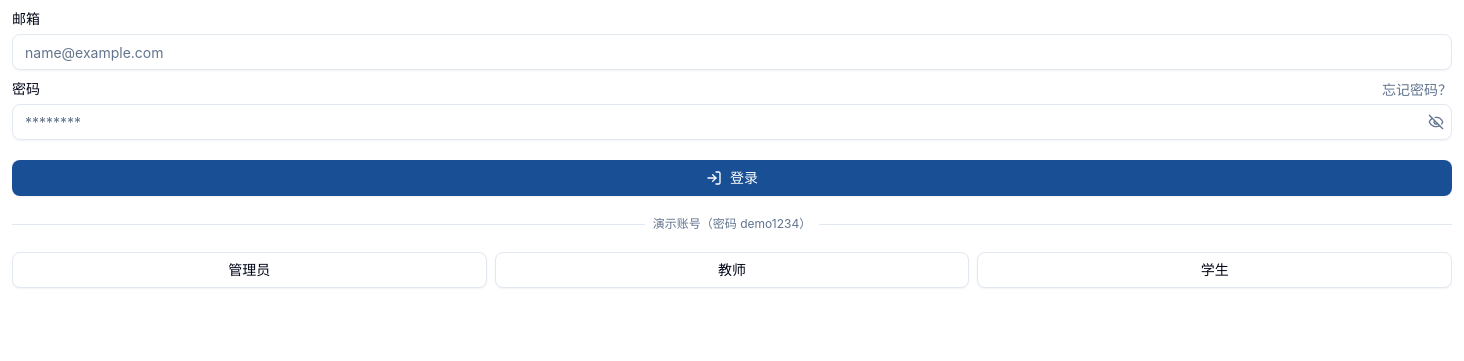
it: UserAuthForm › shows validation messages when submitting empty form
Click the button "登录". click: (732, 178)
box: [12, 160, 1452, 196]
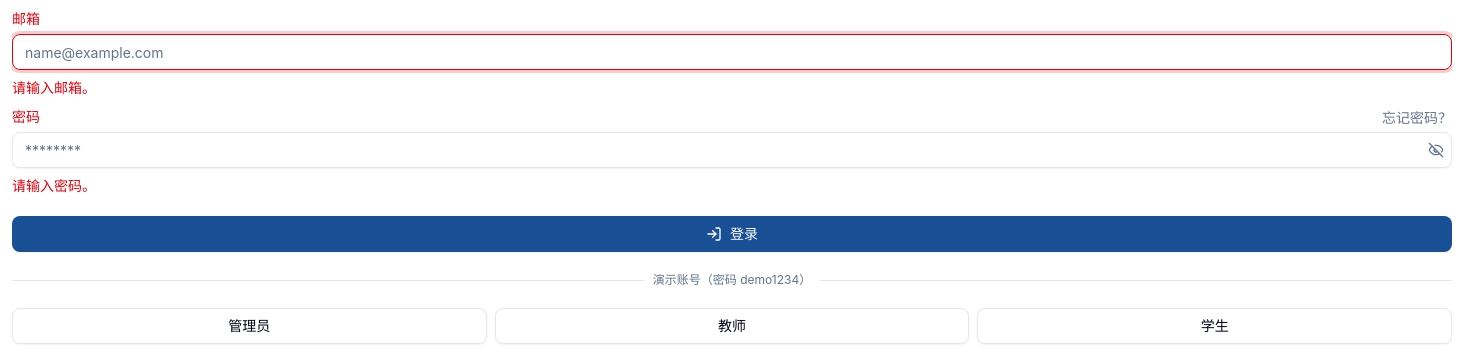
expect the text "请输入邮箱。" is shown: met, box [12, 79, 96, 96]
expect the text "请输入密码。" is shown: met, box [12, 177, 96, 194]
